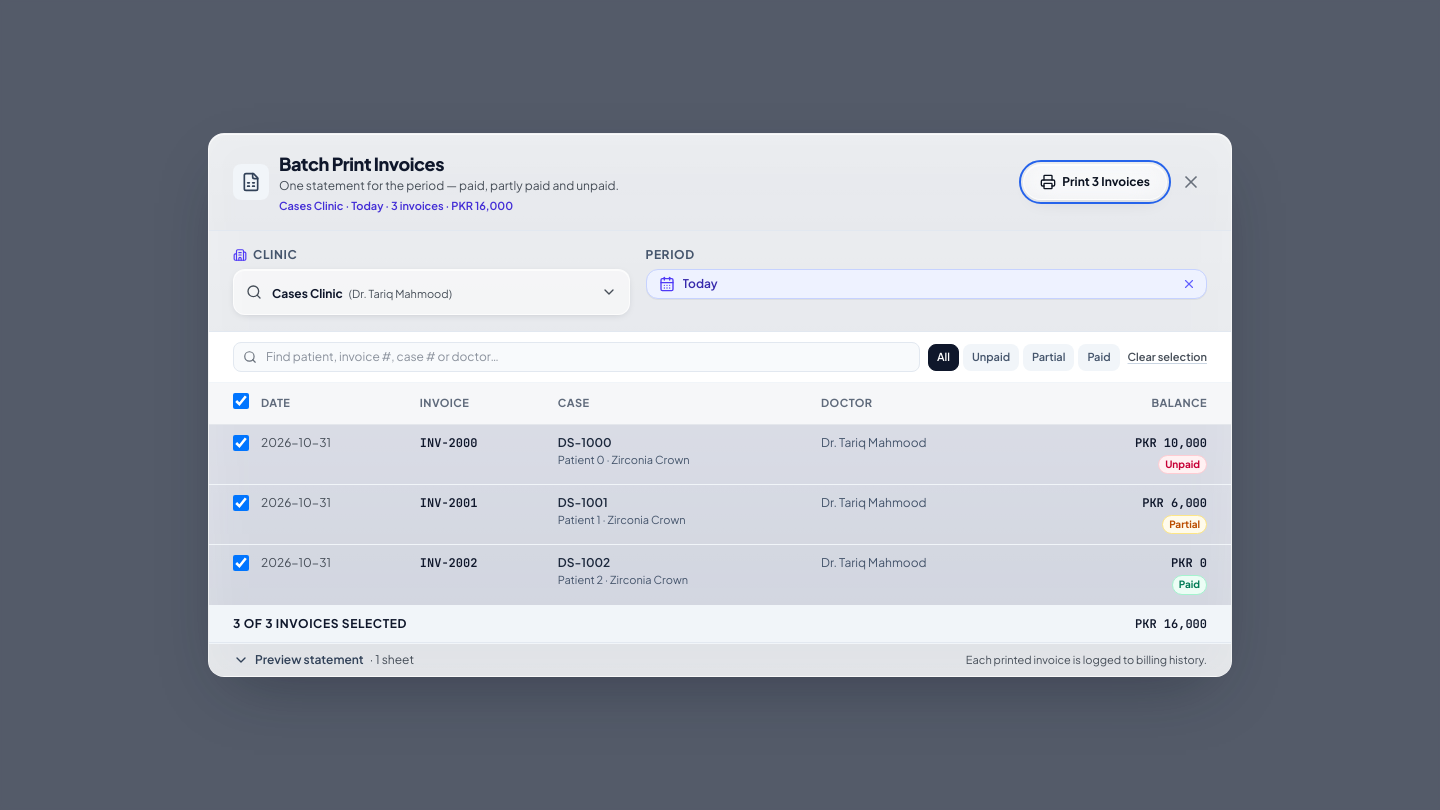
it: batch print picker › clear selection starts over from nothing
Click the button "Clear selection". click: (1167, 357)
box: x1=1128 y1=349 x2=1207 y2=366
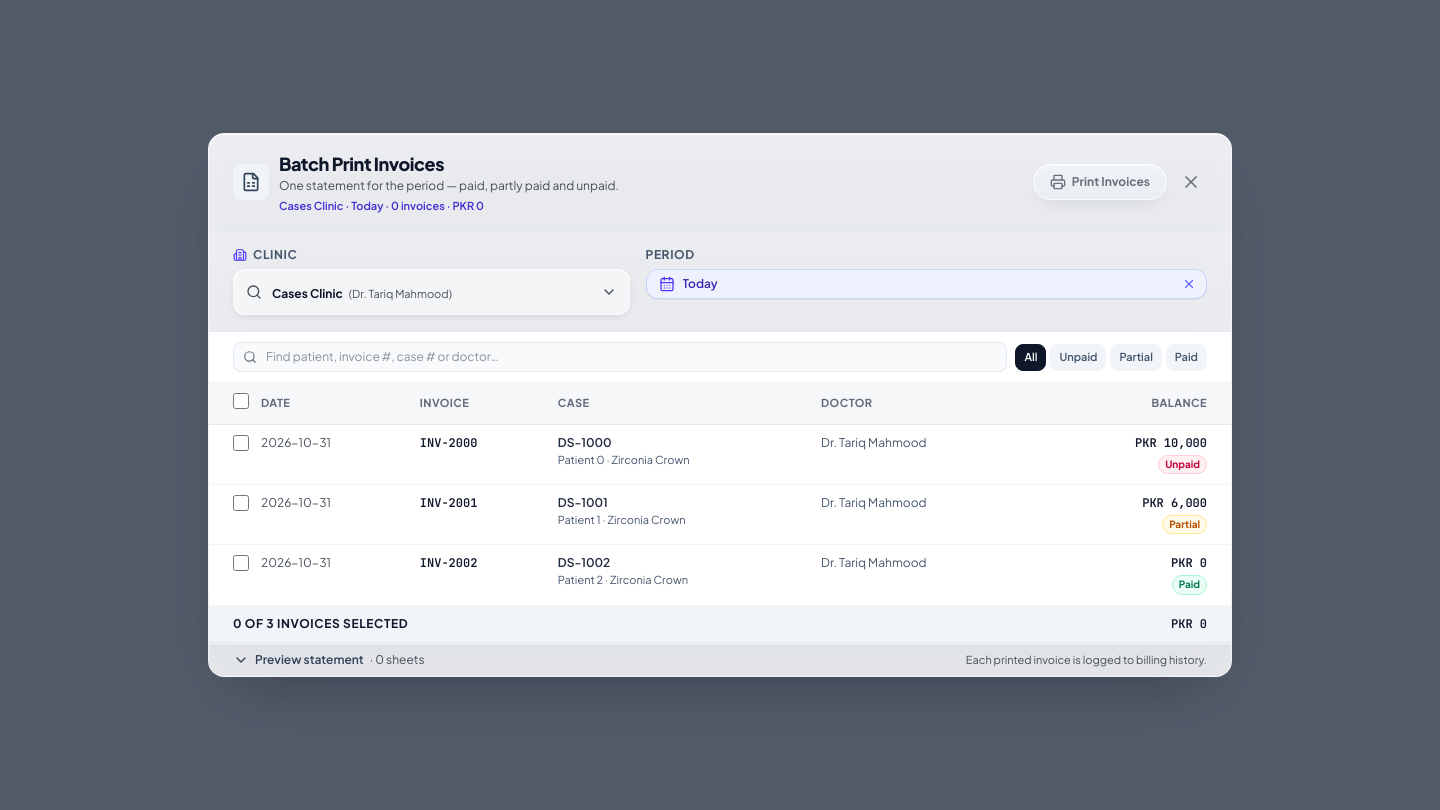
Expected: the text "0 of 3 invoices selected" is shown, x1=233 y1=616 x2=408 y2=632
